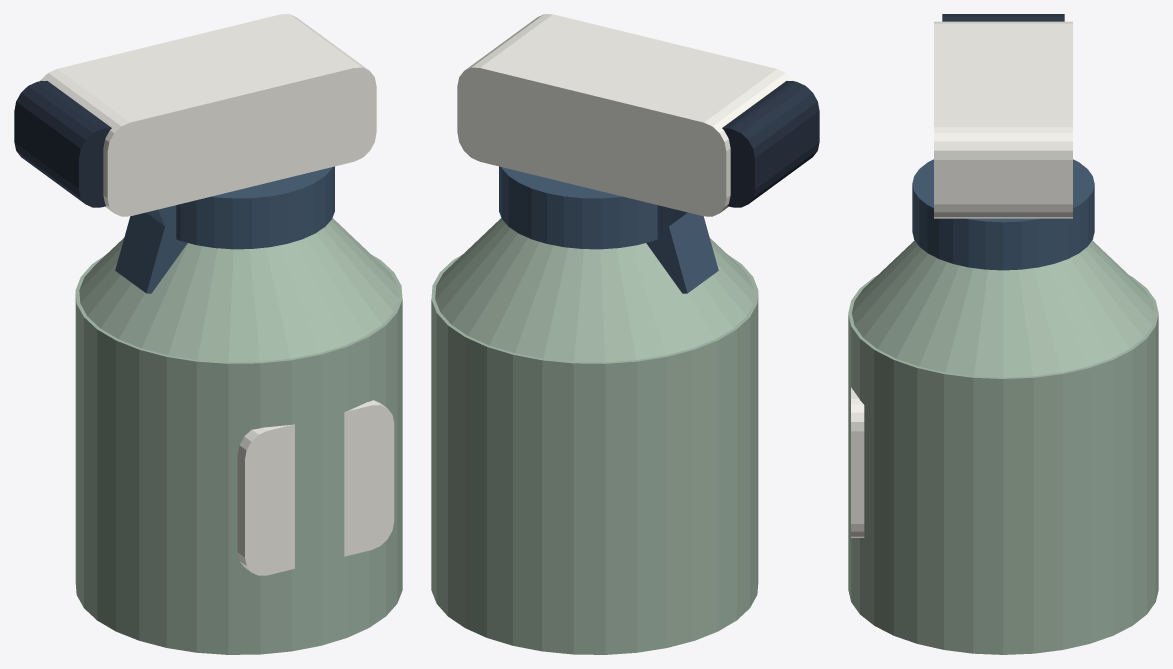
File: lensbottle.glb
3 views of the same model, side by side, from view 1: azimuth 30°, elevation 25°; view 2: azimuth 150°, elevation 25°; view 3: azimuth 270°, elevation 25° (orthographic). The views are drawn at different scales.
Visible parts, largest first — view 1: bottle, sprayer, shoulder, label, collar, nozzle, trigger; view 2: bottle, sprayer, shoulder, collar, nozzle, trigger; view 3: bottle, shoulder, sprayer, collar, label, nozzle.
Boxes of the visible parts, <box> form: bottle: <box>75,255,402,654</box>; sprayer: <box>40,14,376,216</box>; shoulder: <box>79,218,398,362</box>; label: <box>237,400,394,575</box>; collar: <box>176,166,334,249</box>; nozzle: <box>14,81,111,207</box>; trigger: <box>115,205,187,293</box>; bottle: <box>431,255,758,654</box>; sprayer: <box>457,14,793,216</box>; shoulder: <box>435,218,754,362</box>; collar: <box>499,166,657,249</box>; nozzle: <box>722,81,819,207</box>; trigger: <box>646,205,718,293</box>; bottle: <box>848,276,1158,654</box>; shoulder: <box>851,240,1155,377</box>; sprayer: <box>934,21,1072,218</box>; collar: <box>912,159,1094,270</box>; label: <box>851,387,864,537</box>; nozzle: <box>942,14,1064,21</box>.
Size of the model in its own units: 0.895 by 1.34 by 0.76.
